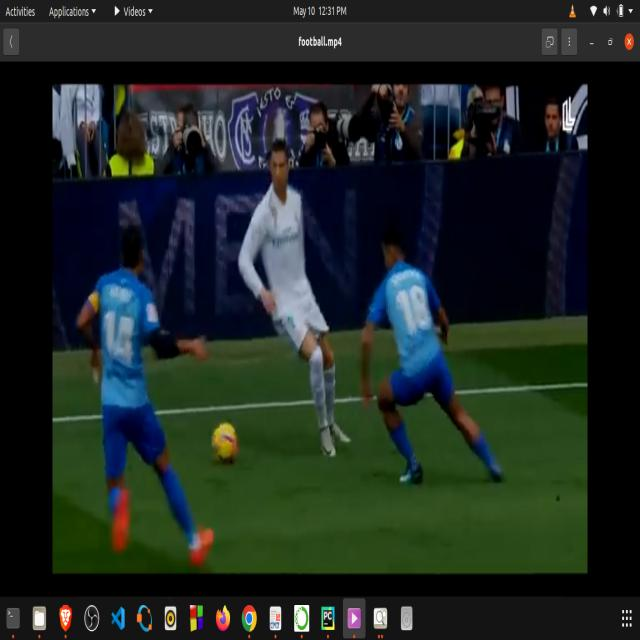Ball: (205, 406, 242, 476)
football-players: (73, 218, 216, 574), (236, 125, 355, 468), (358, 238, 504, 503)
